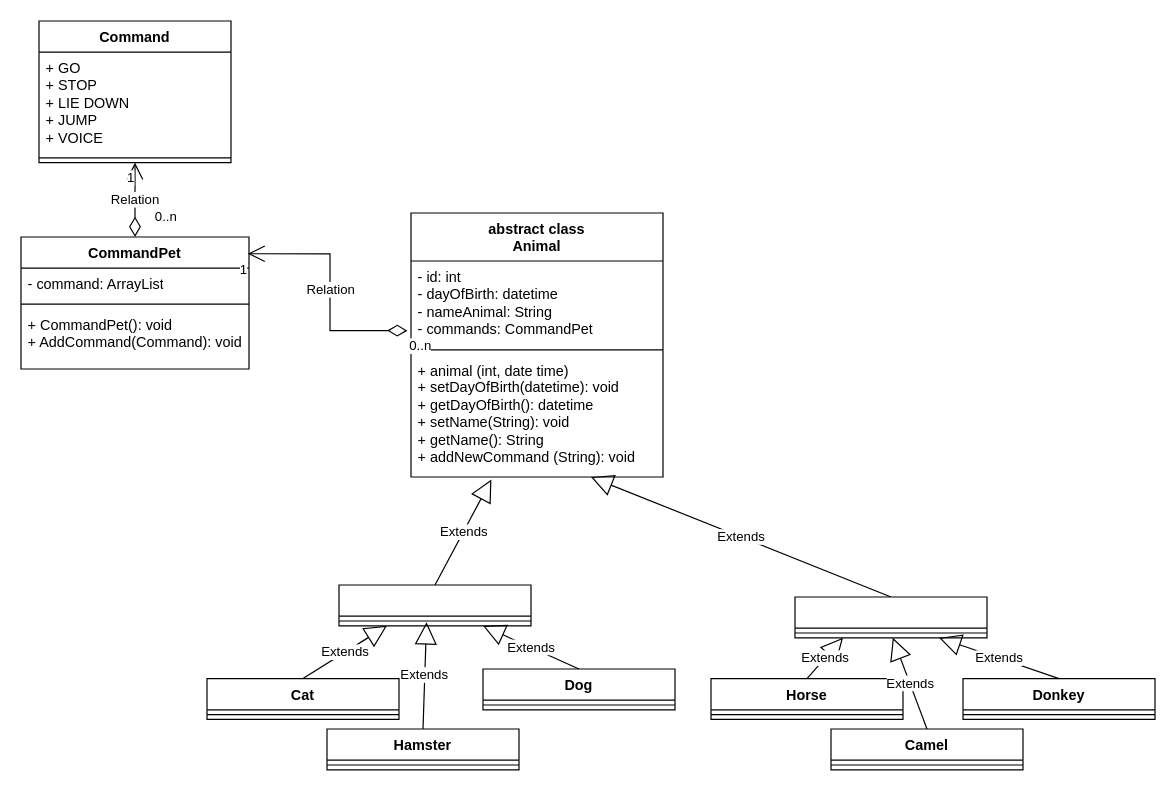
Some shapes in this 1176 by 791 pixel diagram are drawn without their labels. The centre of each missing label's shape, as x and y in pixels:
"BaggageAnimal" goes at [890,617].
"Pet" goes at [434,605].
